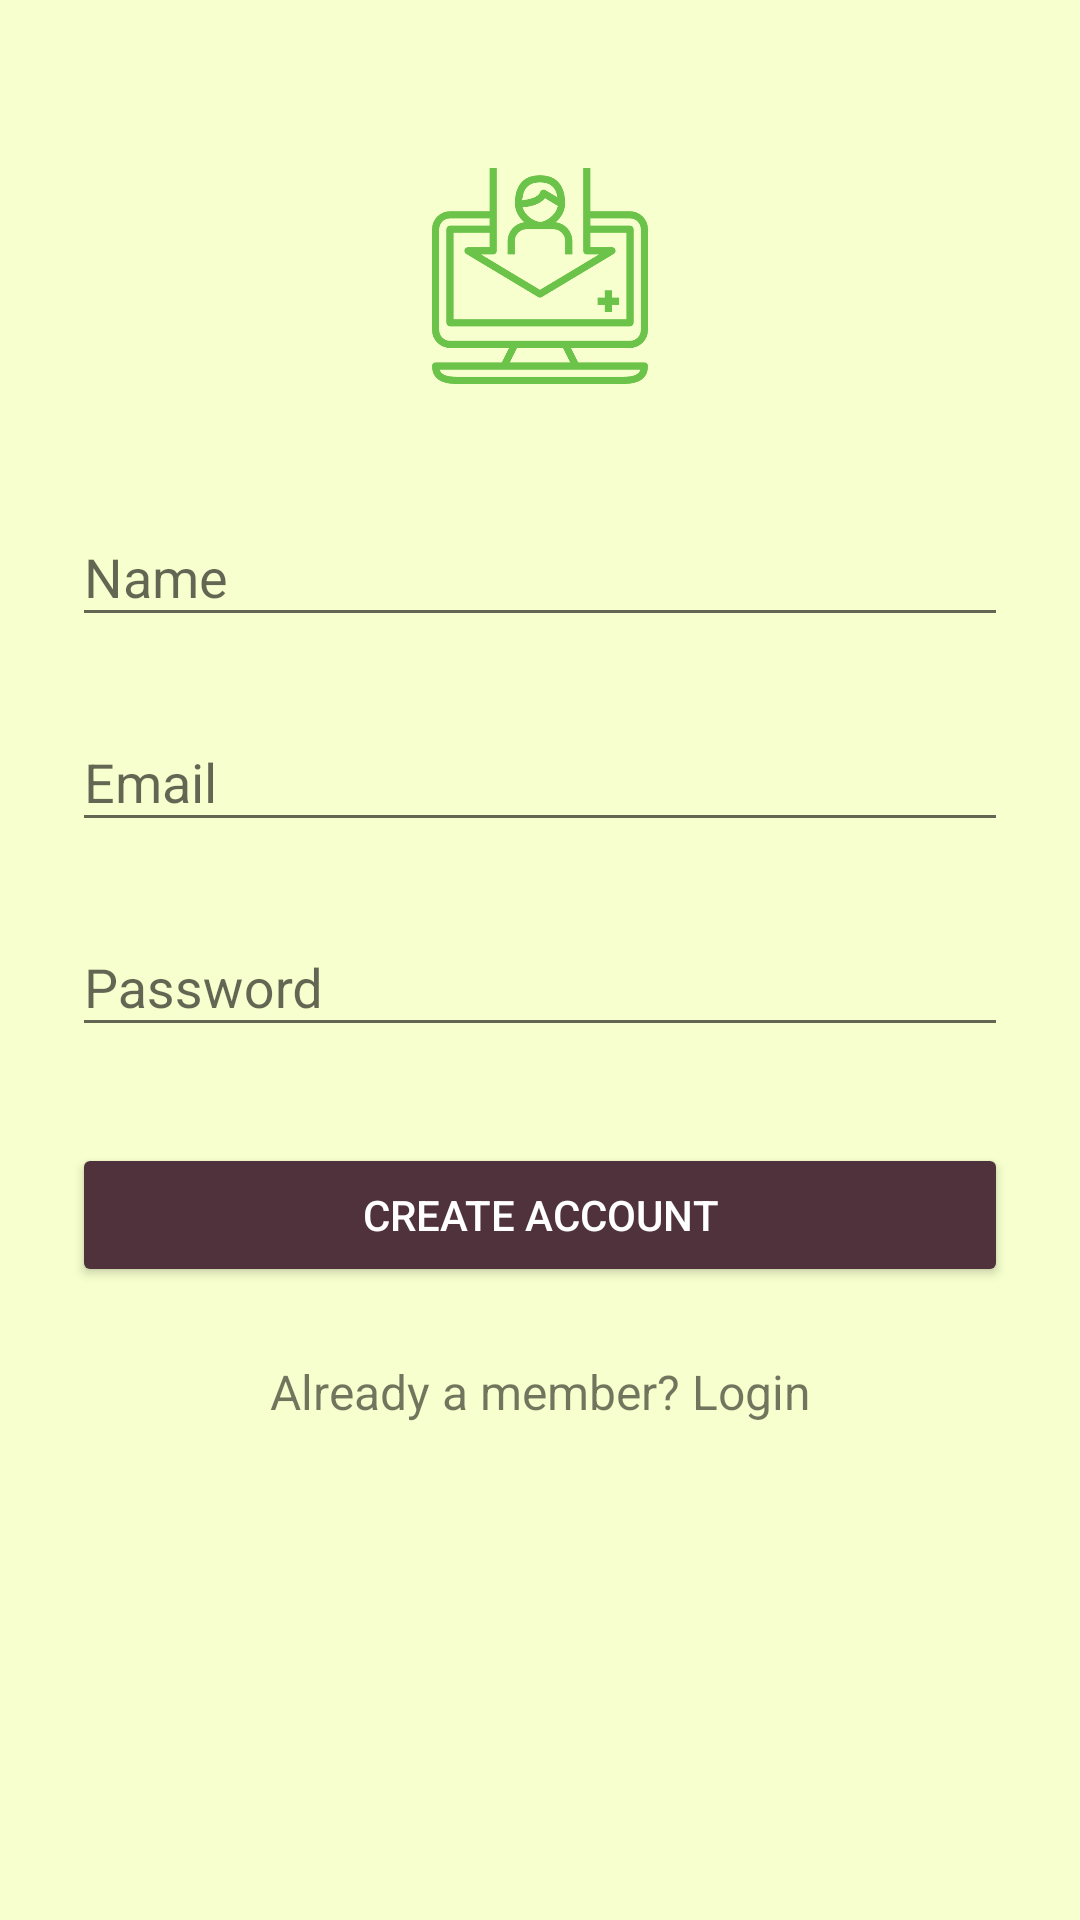

Named icons in this screenshot (1080 x 1920) and their centers, point (x, y):
registration: point (540, 276)
